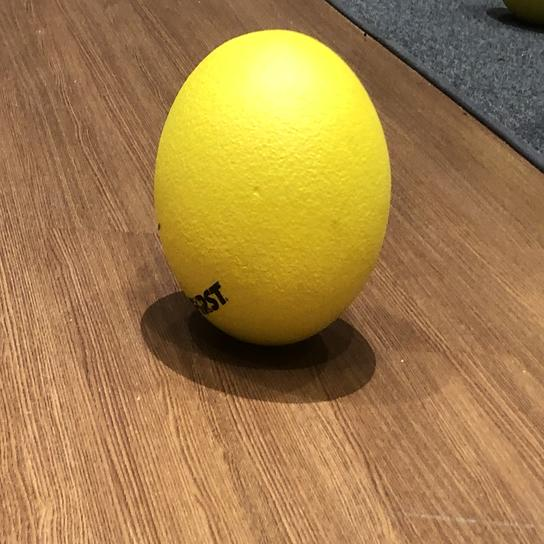ball: (149, 23, 395, 351)
